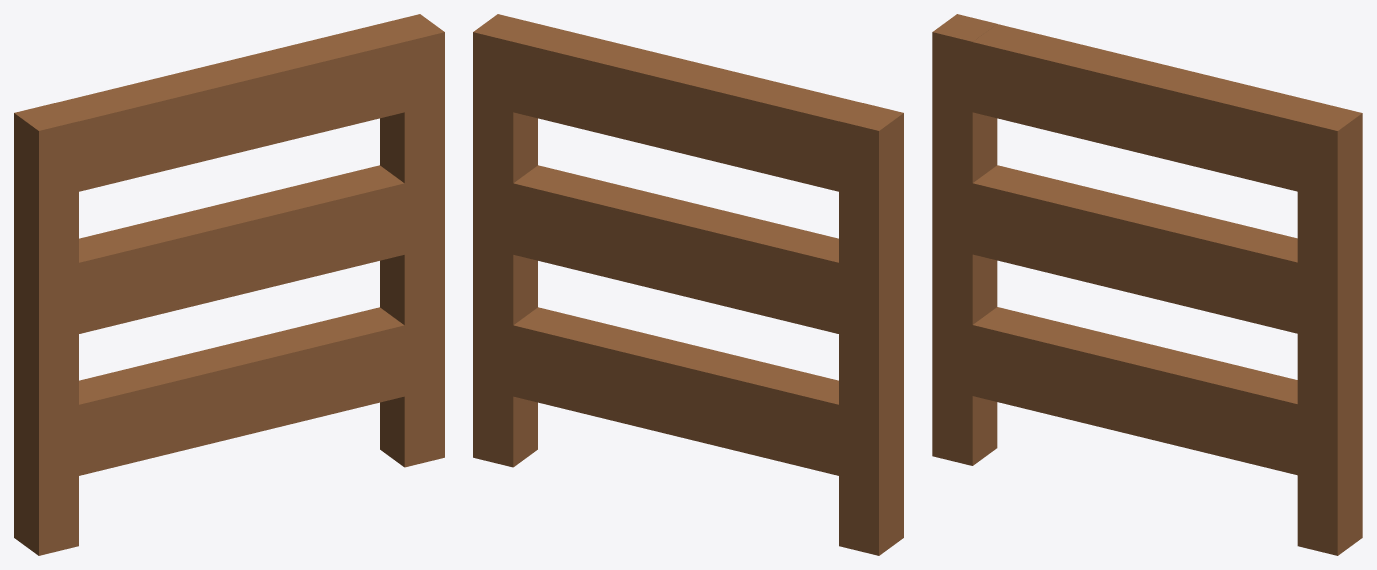
Rendered from ladder.obj.
3 views of the same model, side by side, from view 1: azimuth 30°, elevation 25°; view 2: azimuth 150°, elevation 25°; view 3: azimuth 330°, elevation 25° (orthographic).
Visible parts, largest first — view 1: ladder_立方体.003; view 2: ladder_立方体.003; view 3: ladder_立方体.003.
Boxes of the visible parts, box(x1,y1,x2,y2) form: ladder_立方体.003: box(14, 14, 444, 555); ladder_立方体.003: box(473, 14, 903, 555); ladder_立方体.003: box(932, 14, 1362, 555).
Size of the model in its own units: 2 by 2 by 0.2112.
1 material, 1 textured.
